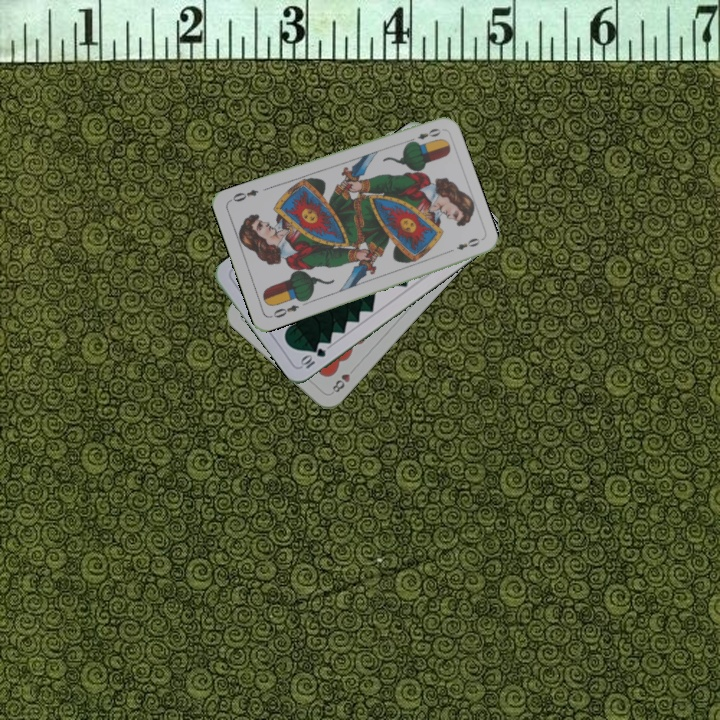EO: (404, 124, 444, 146), (266, 301, 301, 321)
G10: (297, 344, 328, 371)
H8: (328, 363, 358, 396)
